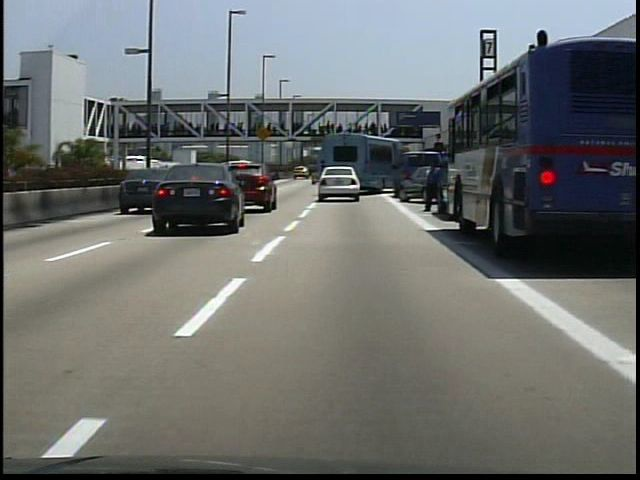person: (424, 162, 444, 215)
